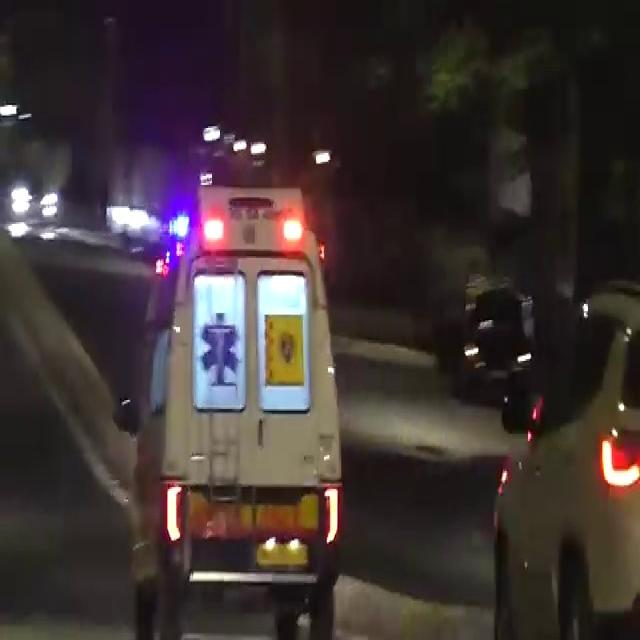ambulance: (120, 133, 374, 602)
